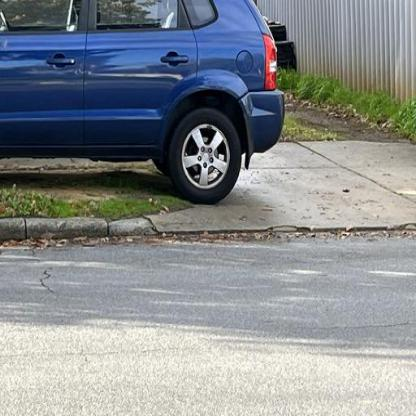Tire: (168, 108, 242, 204)
